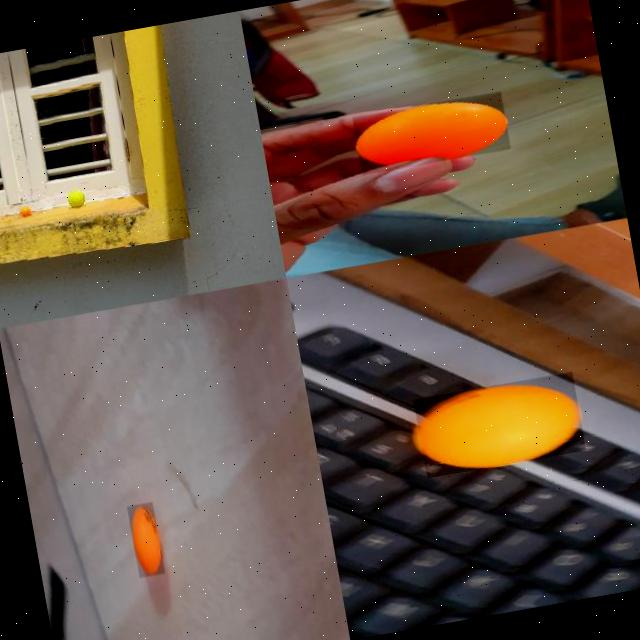ping-pong-ball: (412, 370, 586, 478), (350, 90, 510, 174), (125, 501, 164, 578), (16, 205, 29, 218)
